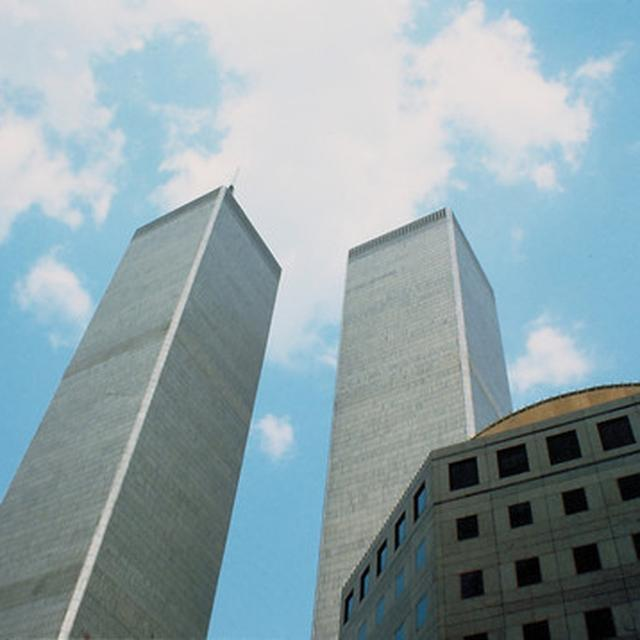building: (2, 183, 286, 640), (311, 205, 510, 640), (344, 381, 640, 640)
